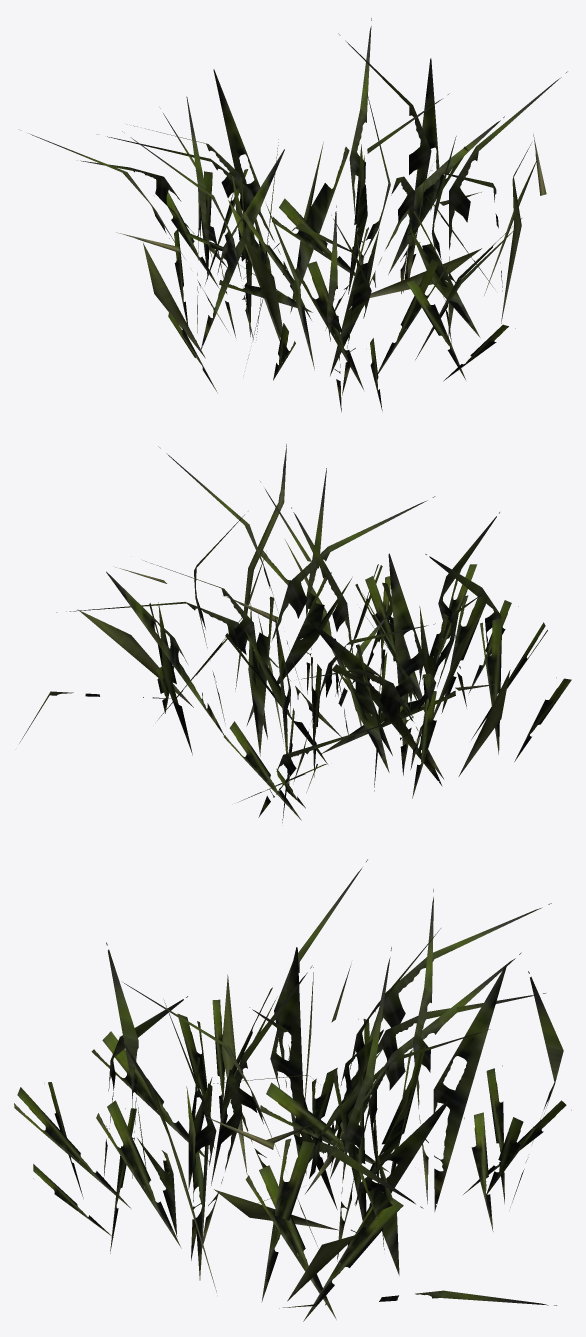
The picture shows the model from 3 angles, top to bottom: view 1: azimuth 30°, elevation 25°; view 2: azimuth 150°, elevation 25°; view 3: azimuth 270°, elevation 25°; orthographic projection. The views are drawn at different scales.
Parts seen in each view (by area): view 1: grass_medium_01_large_a_LOD0; view 2: grass_medium_01_large_a_LOD0; view 3: grass_medium_01_large_a_LOD0.
Part boxes in pixels (bbox=[...]): grass_medium_01_large_a_LOD0: bbox=[20, 18, 567, 412]; grass_medium_01_large_a_LOD0: bbox=[19, 444, 571, 822]; grass_medium_01_large_a_LOD0: bbox=[14, 859, 571, 1321].
Size of the model in its own units: 0.7676 by 0.4442 by 0.7237.
1 material, 1 textured.
